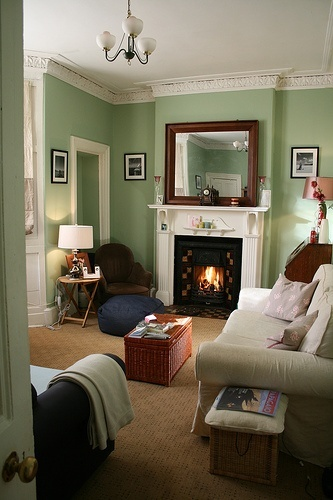chair: (32, 352, 126, 491), (94, 243, 153, 304)
sofa: (191, 265, 332, 470)
